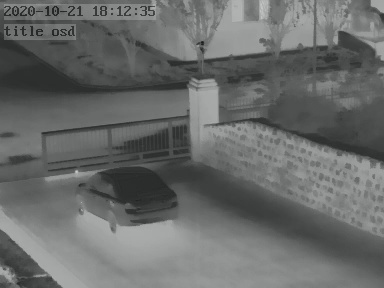vehicle: (79, 165, 178, 229)
